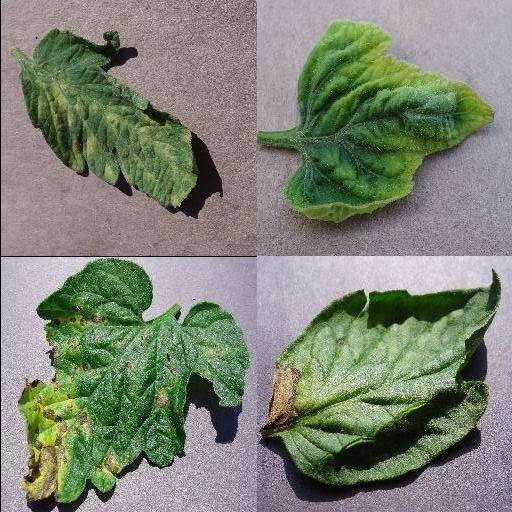Late Blight: (259, 269, 503, 487)
Leaf Mold: (19, 28, 197, 210)
Septoria: (19, 256, 248, 505)
Yellow Leaf Curl Virus: (282, 20, 494, 222)
